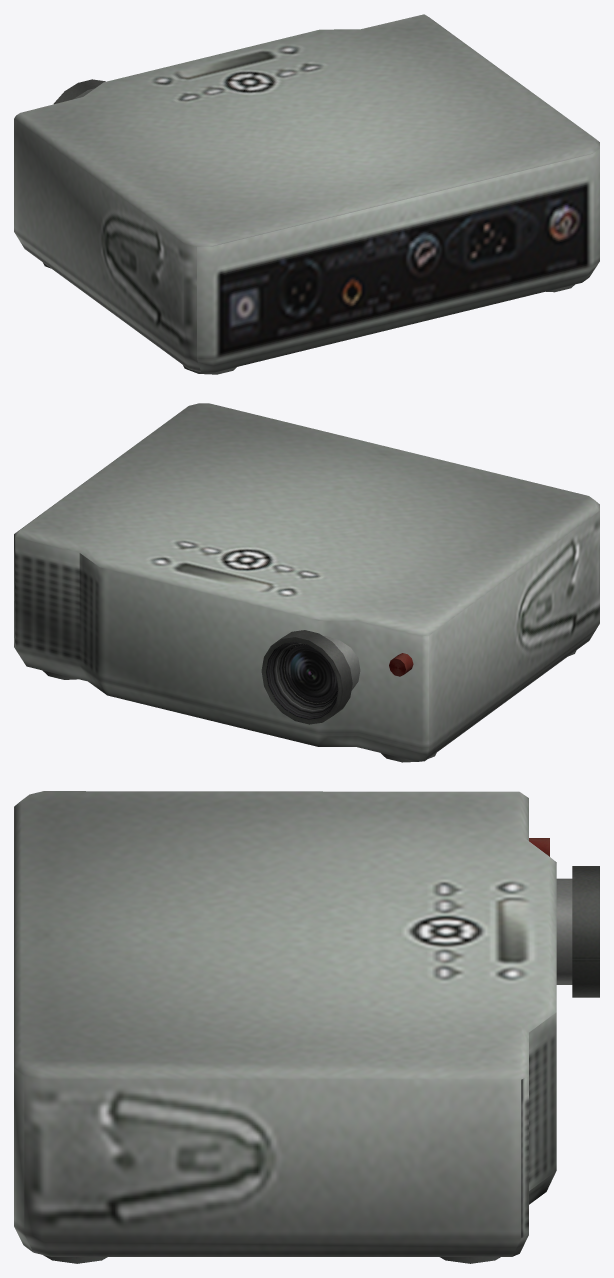
Rendered from projector-1.FBX.
3 renders of one model, top to bottom at view 1: azimuth 30°, elevation 25°; view 2: azimuth 150°, elevation 25°; view 3: azimuth 270°, elevation 25°, orthographic. The views are drawn at different scales.
Parts seen in each view (by area): view 1: projector-1_LOD0; view 2: projector-1_LOD0; view 3: projector-1_LOD0.
Part boxes in pixels (<box>): projector-1_LOD0: <box>14,14,599,374</box>; projector-1_LOD0: <box>14,403,599,762</box>; projector-1_LOD0: <box>14,791,599,1263</box>.
Size of what is drawn, in the model's own units: 13.2 by 4.32 by 11.48.
